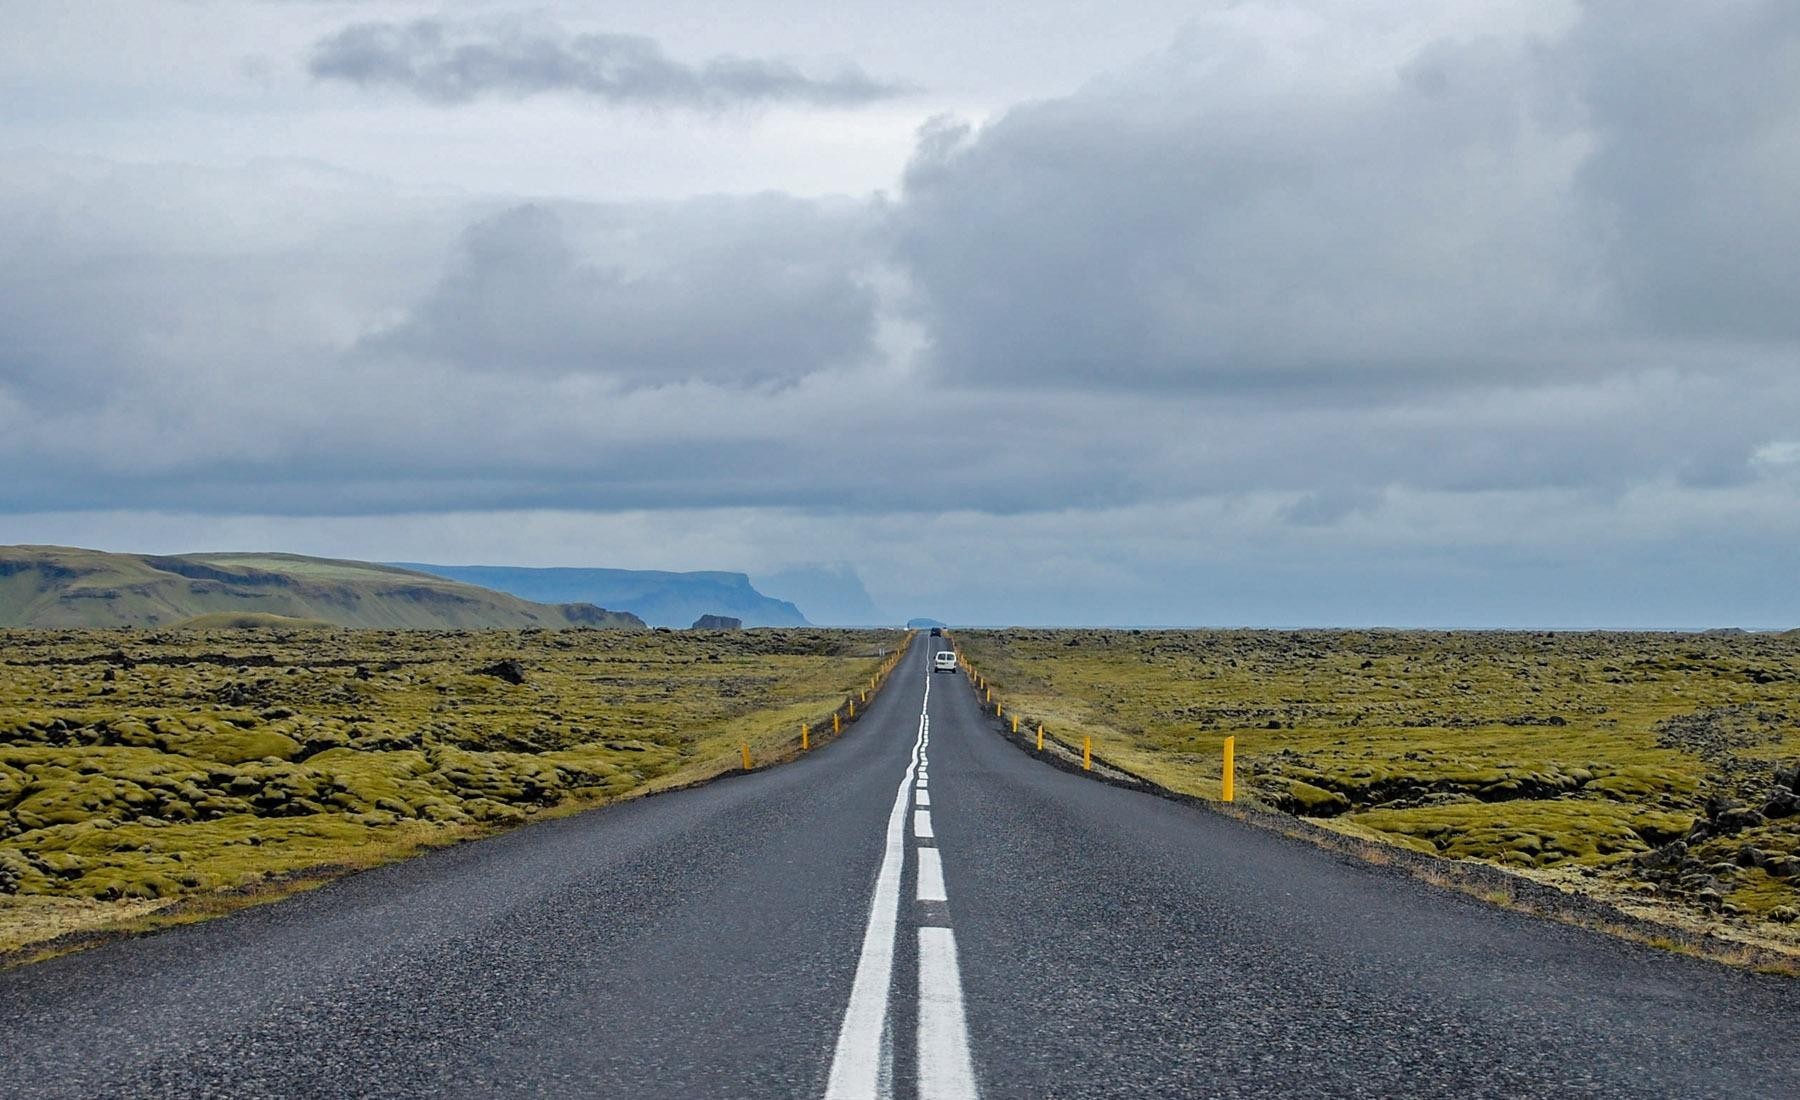car: (932, 644, 963, 679)
